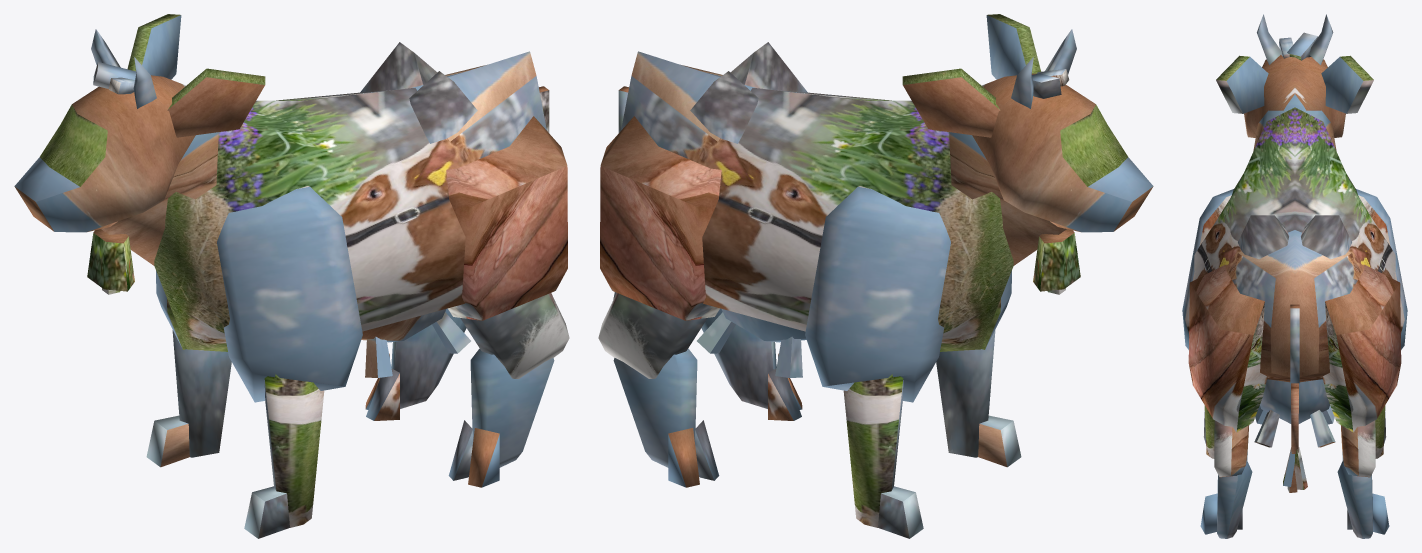
The model's file is Cow.fbx.
3 renders of one model, left to right at view 1: azimuth 30°, elevation 25°; view 2: azimuth 150°, elevation 25°; view 3: azimuth 270°, elevation 25°, orthographic. The views are drawn at different scales.
Parts seen in each view (by area): view 1: Cube.016, Cube.046, Cylinder.011, Cube.020, Cube.047, Cylinder.013, Cube.030, Cylinder.012, Cylinder.010, Cube.024, Cube.034, Cube.045 (+5 smaller); view 2: Cube.016, Cube.025, Cylinder.004, Cube.020, Cube.030, Cylinder.010, Cube.047, Cylinder.005, Cylinder.013, Cube.045, Cube.034, Cube.024 (+4 smaller); view 3: Cube.016, Cylinder.004, Cylinder.011, Cube.020, Cylinder.010, Cylinder.013, Cube.024, Cube.045, Sphere.003, Cylinder.005, Cylinder.012, Cube.042 (+10 smaller).
Boxes of the visible parts, bbox=[...] form: Cube.016: bbox=[154, 42, 546, 351]; Cube.046: bbox=[217, 186, 362, 402]; Cylinder.011: bbox=[446, 116, 567, 320]; Cube.020: bbox=[14, 75, 195, 232]; Cube.047: bbox=[244, 374, 324, 538]; Cylinder.013: bbox=[448, 348, 554, 487]; Cube.030: bbox=[146, 330, 231, 467]; Cylinder.012: bbox=[460, 293, 569, 378]; Cylinder.010: bbox=[365, 308, 466, 420]; Cube.024: bbox=[167, 68, 265, 137]; Cube.034: bbox=[101, 132, 218, 265]; Cube.045: bbox=[127, 14, 181, 79]; Cube.016: bbox=[621, 42, 1013, 351]; Cube.025: bbox=[805, 186, 950, 402]; Cylinder.004: bbox=[600, 116, 721, 320]; Cube.020: bbox=[972, 73, 1153, 232]; Cube.030: bbox=[843, 374, 923, 538]; Cylinder.010: bbox=[613, 348, 719, 487]; Cube.047: bbox=[936, 330, 1021, 467]; Cylinder.005: bbox=[598, 293, 707, 378]; Cylinder.013: bbox=[701, 308, 802, 420]; Cube.045: bbox=[902, 68, 1000, 137]; Cube.034: bbox=[949, 132, 1066, 265]; Cube.024: bbox=[986, 14, 1040, 79]; Cube.016: bbox=[1194, 107, 1395, 382]; Cylinder.004: bbox=[1322, 264, 1401, 432]; Cylinder.011: bbox=[1188, 264, 1267, 432]; Cube.020: bbox=[1244, 54, 1345, 137]; Cylinder.010: bbox=[1337, 460, 1389, 538]; Cylinder.013: bbox=[1200, 460, 1252, 538]; Cube.024: bbox=[1216, 55, 1268, 113]; Cube.045: bbox=[1321, 55, 1373, 113]; Sphere.003: bbox=[1260, 379, 1329, 423]; Cylinder.005: bbox=[1340, 420, 1375, 477]; Cylinder.012: bbox=[1214, 420, 1249, 477]; Cube.042: bbox=[1254, 405, 1335, 447].
Size of the model in its own units: 230 by 200 by 105.
